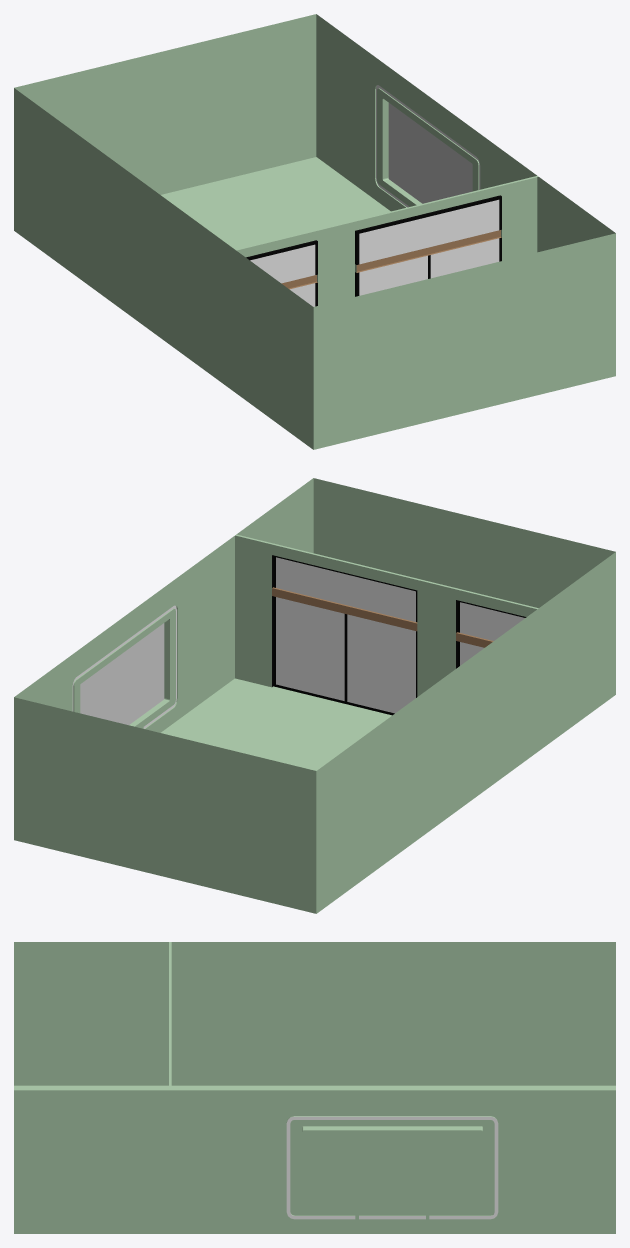
The model's file is Room.fbx.
3 renders of one model, top to bottom at view 1: azimuth 30°, elevation 25°; view 2: azimuth 150°, elevation 25°; view 3: azimuth 270°, elevation 25°, orthographic.
Visible parts, largest first — view 1: Room; view 2: Room; view 3: Room.
Boxes of the visible parts, x1=… form: Room: x1=14, y1=14, x2=615, y2=449; Room: x1=14, y1=478, x2=615, y2=913; Room: x1=14, y1=942, x2=615, y2=1233.
Size of the model in its own units: 699 by 307 by 1164.
